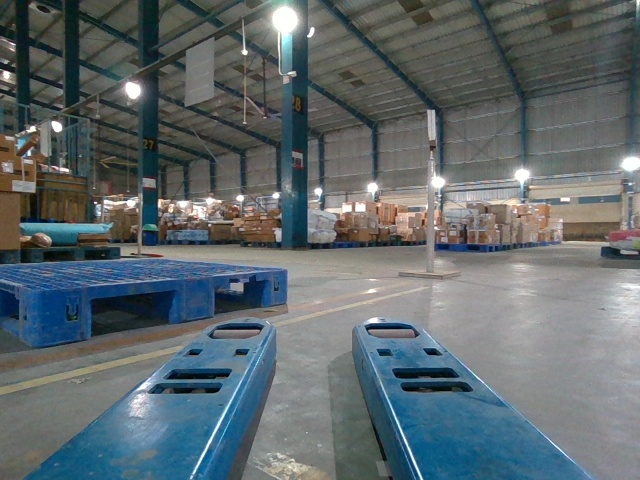block: (36, 286, 91, 350), (175, 277, 216, 324), (262, 268, 289, 311)
front: (36, 268, 287, 348)
hole pallet: (91, 288, 180, 334), (215, 277, 268, 316)
